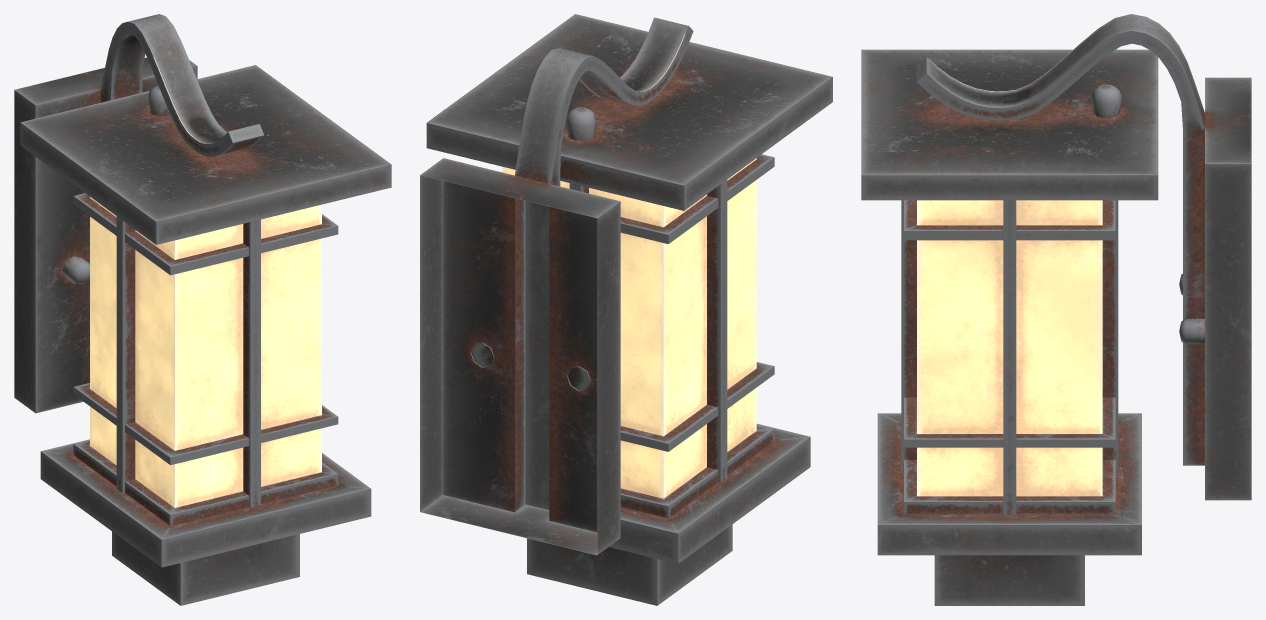
The picture shows the model from 3 angles, left to right: view 1: azimuth 30°, elevation 25°; view 2: azimuth 150°, elevation 25°; view 3: azimuth 270°, elevation 25°; orthographic projection. The views are drawn at different scales.
Visible parts, largest first — view 1: WallLamp; view 2: WallLamp; view 3: WallLamp.
Boxes of the visible parts, x1,y1,x2,y2 form: WallLamp: (14, 14, 391, 605); WallLamp: (420, 14, 832, 605); WallLamp: (861, 14, 1251, 605).
Bounding box in the file's own units: 0.9752 × 2 × 1.28.
1 material, 1 textured.
